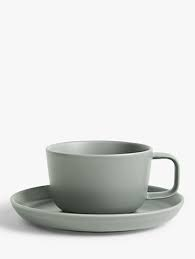cup: (7, 135, 188, 235)
